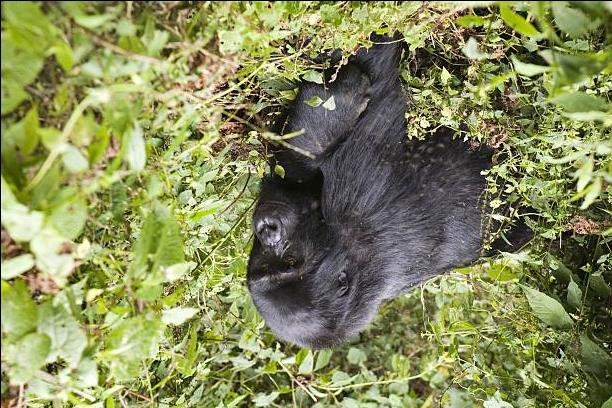goriile_montagne: (250, 49, 464, 362)
